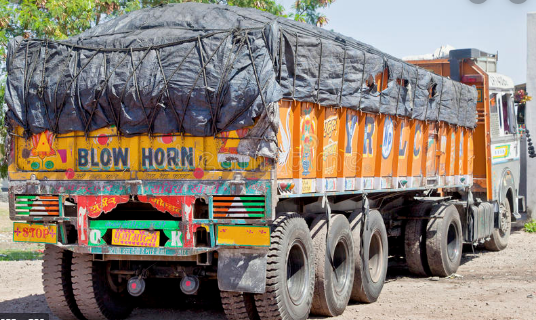truck: (10, 1, 522, 315)
